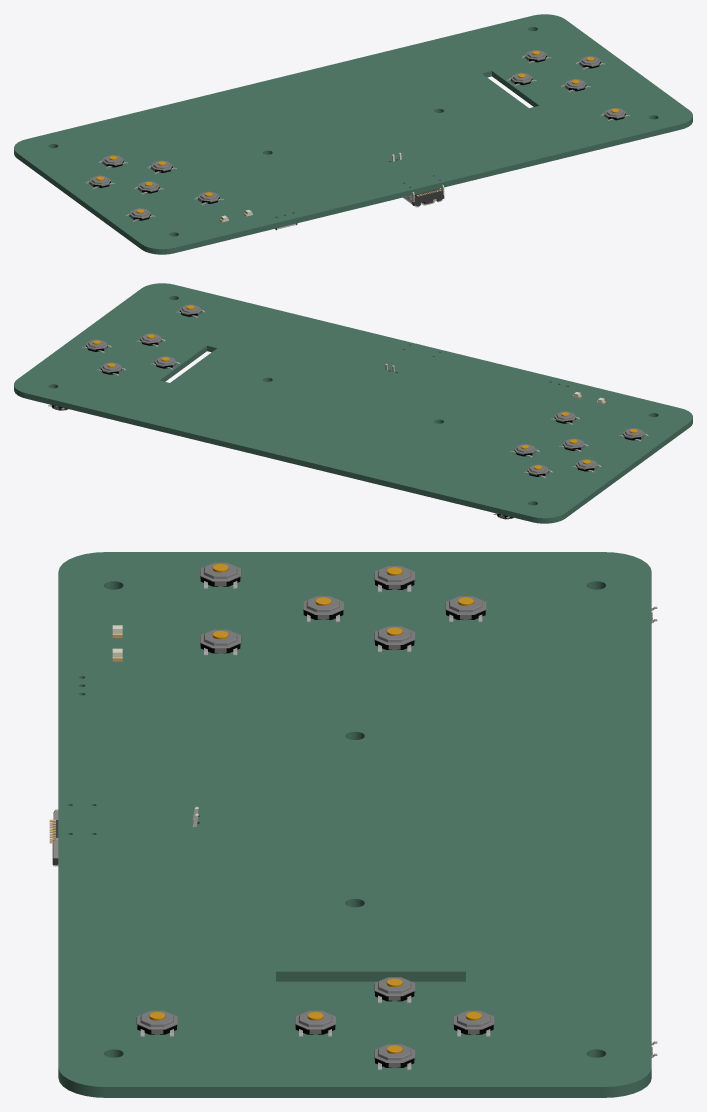
The model's file is pcb-board.glb.
3 views of the same model, one above another, from view 1: azimuth 30°, elevation 25°; view 2: azimuth 150°, elevation 25°; view 3: azimuth 270°, elevation 25° (orthographic). The views are drawn at different scales.
Visible parts, largest first — view 1: =>[0:1:1:14], J1; view 2: =>[0:1:1:14]; view 3: =>[0:1:1:14], SW10, SW8, SW9, SW5, SW1, SW13, SW4, SW6, SW3, SW7, SW2.
Part boxes in pixels (x1,y1,x2,y2): =>[0:1:1:14]: (14, 14, 692, 254); J1: (403, 184, 444, 207); =>[0:1:1:14]: (14, 283, 692, 523); =>[0:1:1:14]: (58, 552, 651, 1097); SW10: (200, 629, 241, 655); SW8: (374, 977, 415, 1003); SW9: (200, 562, 241, 588); SW5: (453, 1010, 494, 1036); SW1: (445, 596, 486, 622); SW13: (136, 1010, 177, 1036); SW4: (374, 626, 415, 652); SW6: (374, 1044, 415, 1070); SW3: (374, 566, 415, 592); SW7: (295, 1010, 335, 1036); SW2: (303, 596, 343, 622).
Bounding box in the file's own units: 0.16 × 0.0094 × 0.0768.
